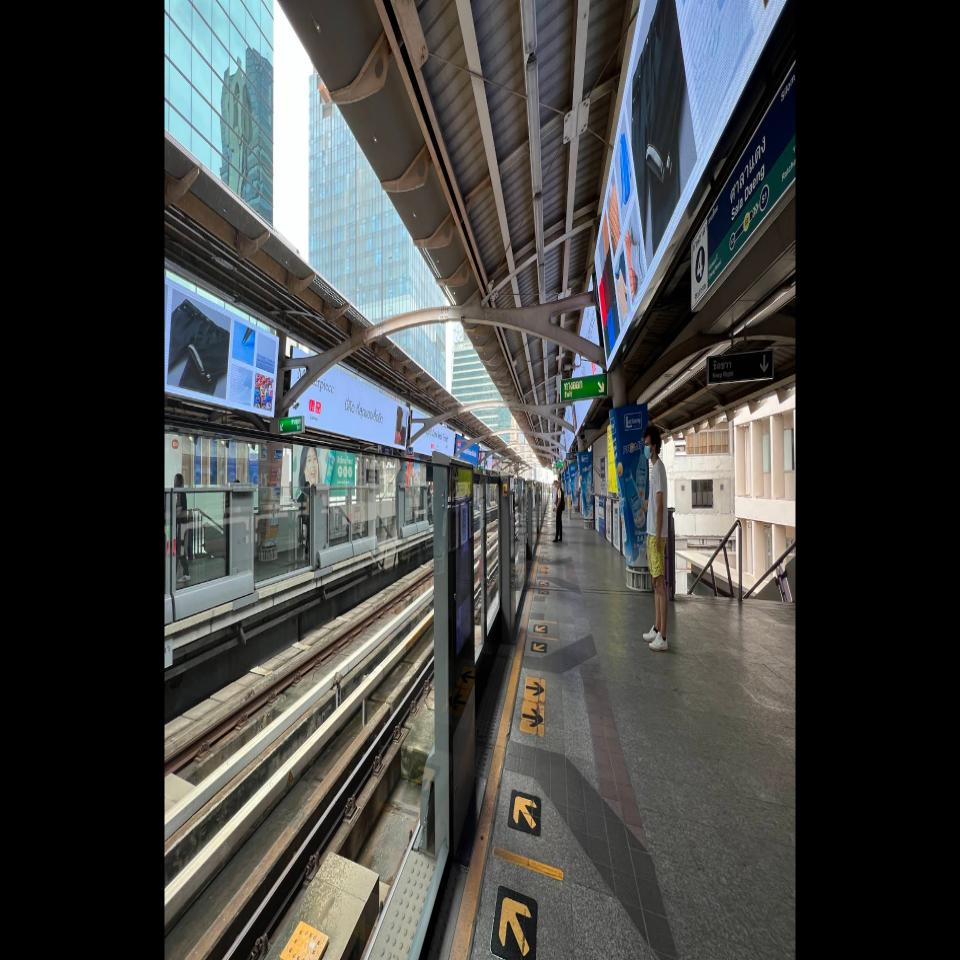signage: (729, 106, 770, 265)
